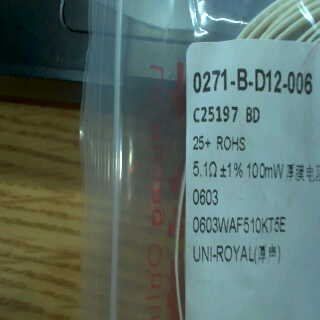5.1R: (189, 160, 218, 176)
